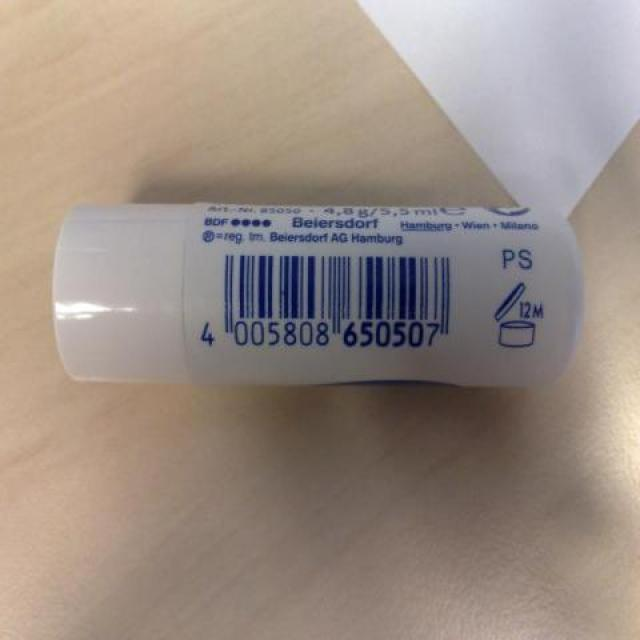Barcode: (197, 248, 462, 357)
